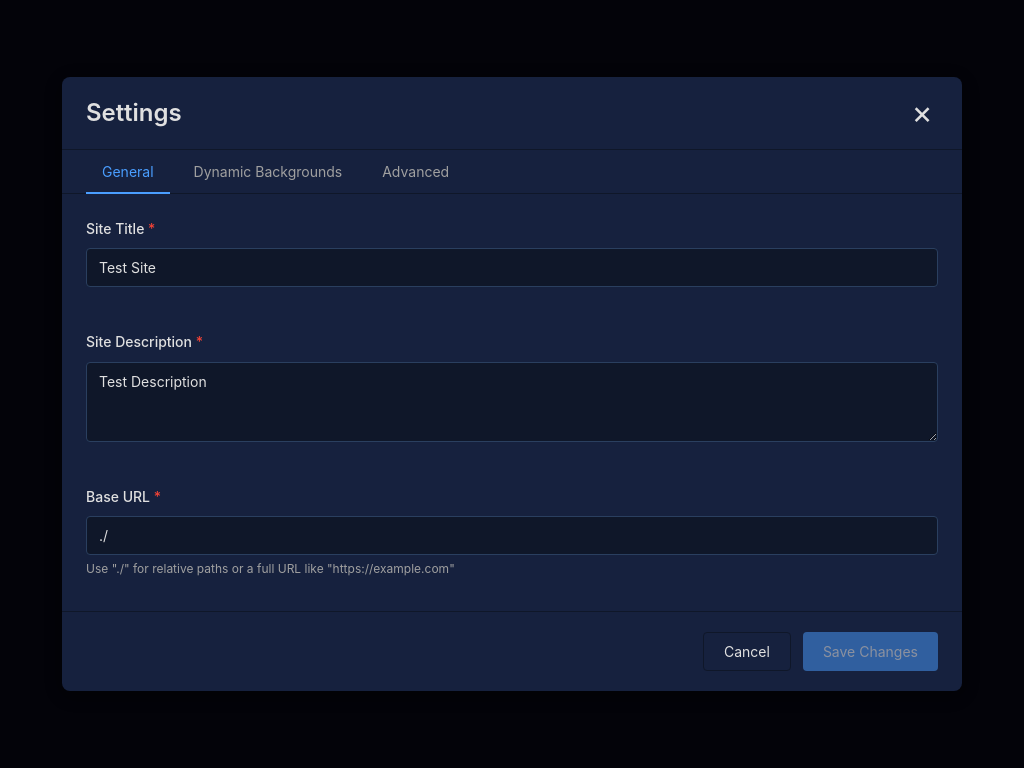
Test: SettingsModal › should switch tabs
Click the button "Advanced" at [416, 172], box 366,151 -> 465,194
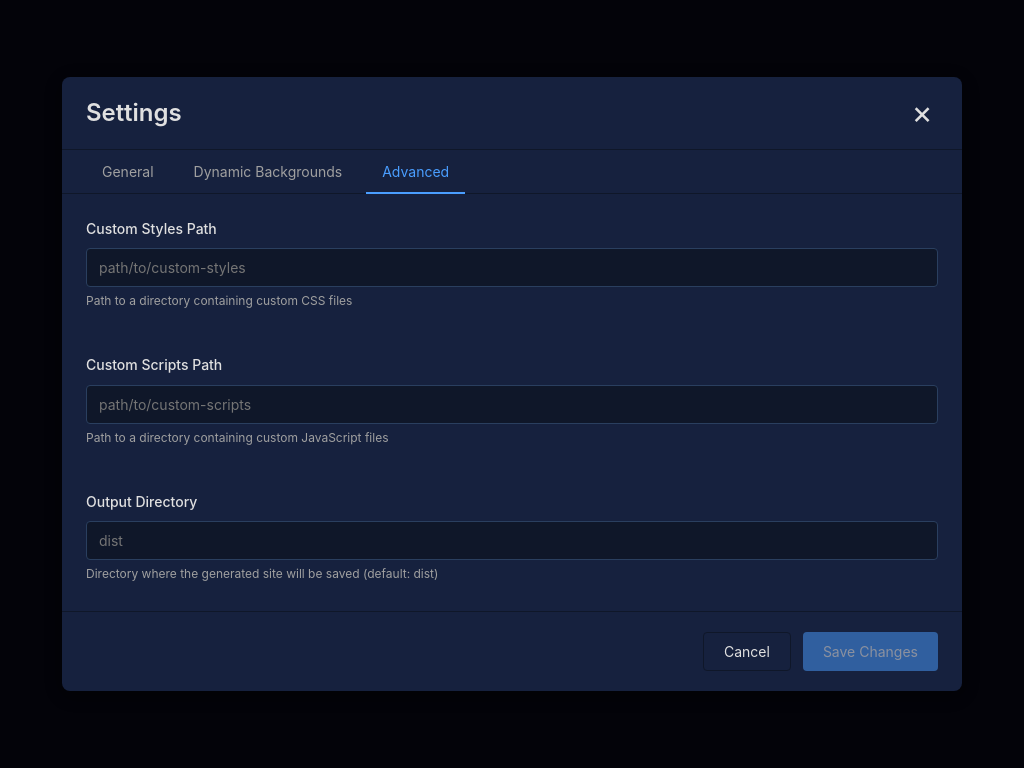
Expected: the text "Output Directory" is shown, 86,493 -> 197,510
